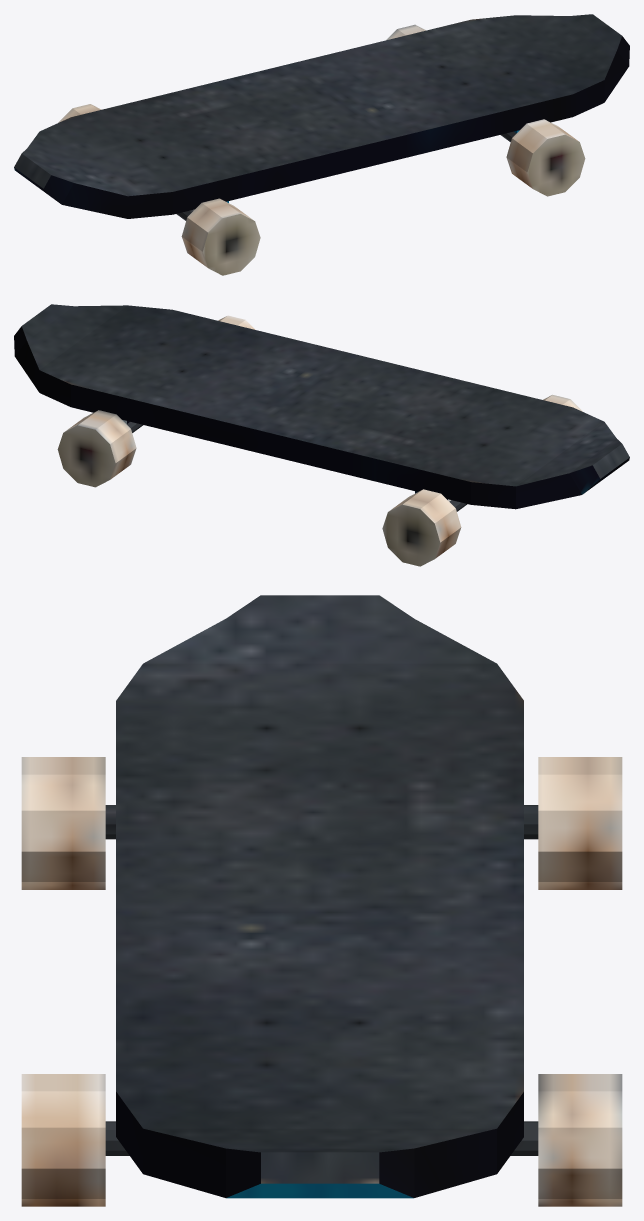
File: skateboard.glb
3 views of the same model, one above another, from view 1: azimuth 30°, elevation 25°; view 2: azimuth 150°, elevation 25°; view 3: azimuth 270°, elevation 25° (orthographic). The views are drawn at different scales.
Visible parts, largest first — view 1: skatebaord, Cylinder.002, Cylinder; view 2: skatebaord, Cylinder.003, Cylinder.001; view 3: skatebaord, Cylinder, Cylinder.001, Cylinder.002, Cylinder.003, brackets.
Boxes of the visible parts, x1,y1,x2,y2 form: skatebaord: (14,14,629,218); Cylinder.002: (181,198,260,275); Cylinder: (506,119,585,196); skatebaord: (14,304,629,509); Cylinder.003: (382,489,461,566); Cylinder.001: (57,410,136,487); skatebaord: (116,595,523,1198); Cylinder: (21,1074,105,1206); Cylinder.001: (538,1074,622,1206); Cylinder.002: (21,757,105,889); Cylinder.003: (538,757,622,889); brackets: (105,805,538,1155).
Bounding box in the file's own units: 2.86 × 0.3921 × 1.27.
6 materials, 6 textured.
